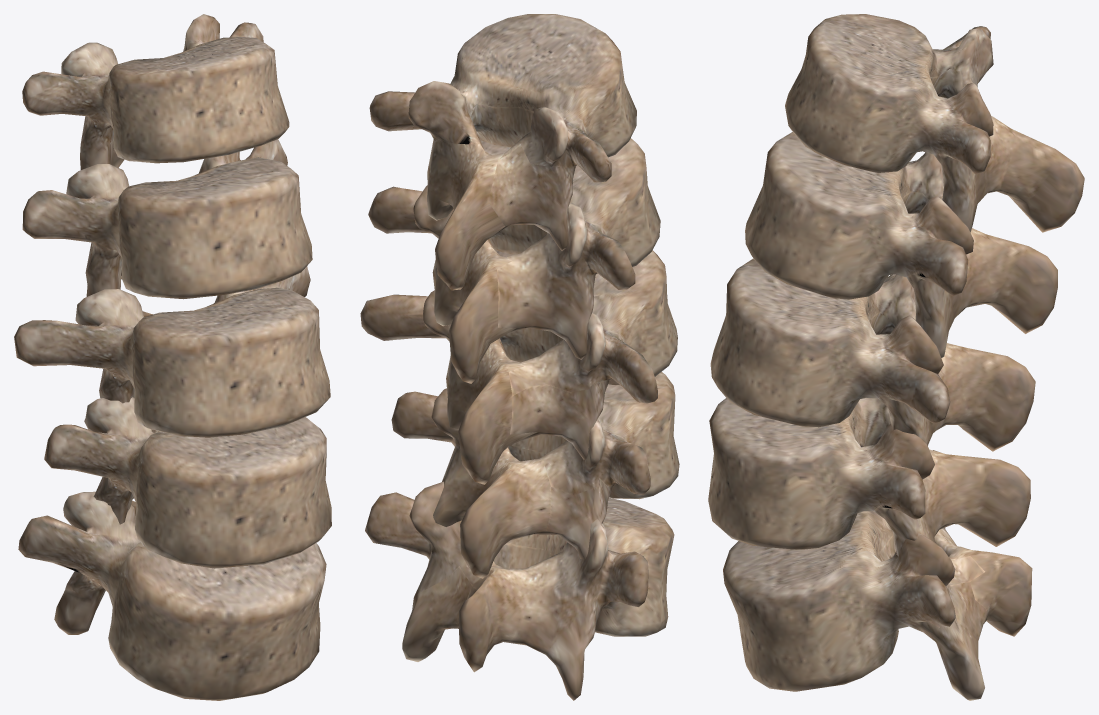
Rendered from Legs.224.obj.
The picture shows the model from 3 angles, left to right: view 1: azimuth 30°, elevation 25°; view 2: azimuth 150°, elevation 25°; view 3: azimuth 270°, elevation 25°; orthographic projection. The views are drawn at different scales.
Parts seen in each view (by area): view 1: Legs.224_Arms.224; view 2: Legs.224_Arms.224; view 3: Legs.224_Arms.224.
Boxes of the visible parts, <box> form: Legs.224_Arms.224: <box>14,14,331,700</box>; Legs.224_Arms.224: <box>360,14,679,700</box>; Legs.224_Arms.224: <box>708,14,1084,700</box>.
Size of the model in its own units: 0.4019 by 0.8 by 0.4333.
